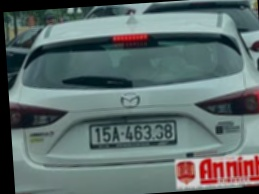Bien-so: (81, 121, 168, 146)
